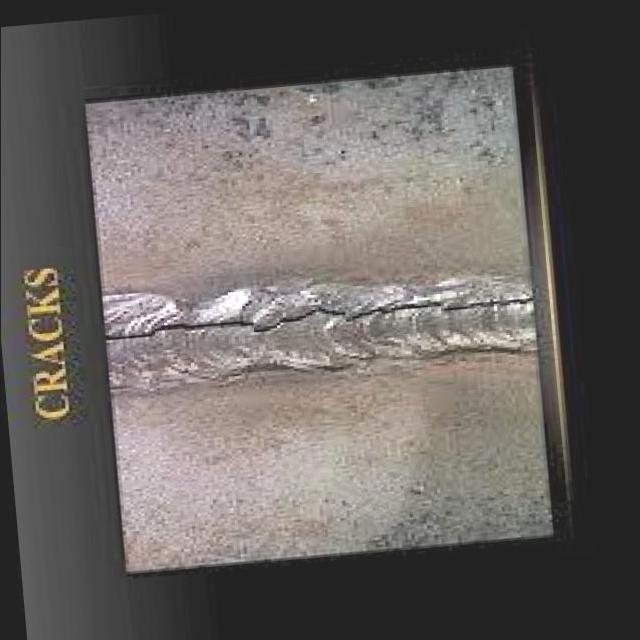defect: (103, 290, 536, 345)
